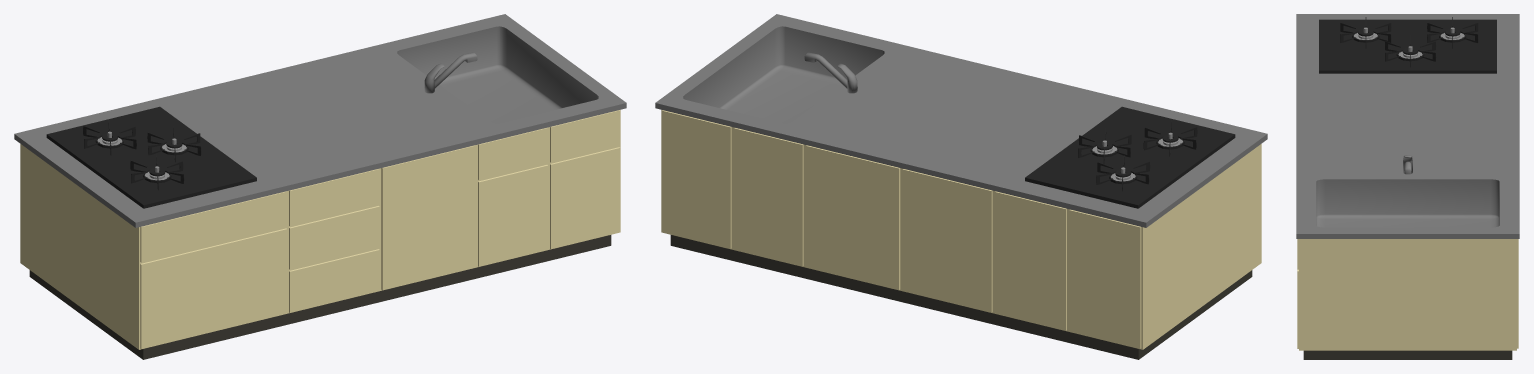
Rendered from kitchen_s2.glb.
3 renders of one model, left to right at view 1: azimuth 30°, elevation 25°; view 2: azimuth 150°, elevation 25°; view 3: azimuth 270°, elevation 25°, orthographic. The views are drawn at different scales.
Visible parts, largest first — view 1: 調理台.001; view 2: 調理台.001; view 3: 調理台.001.
Part boxes in pixels (x1,y1,x2,y2): 調理台.001: (14,14,626,359); 調理台.001: (655,14,1267,359); 調理台.001: (1296,14,1519,359).
Bounding box in the file's own units: 2.1 × 0.7 × 0.9.
